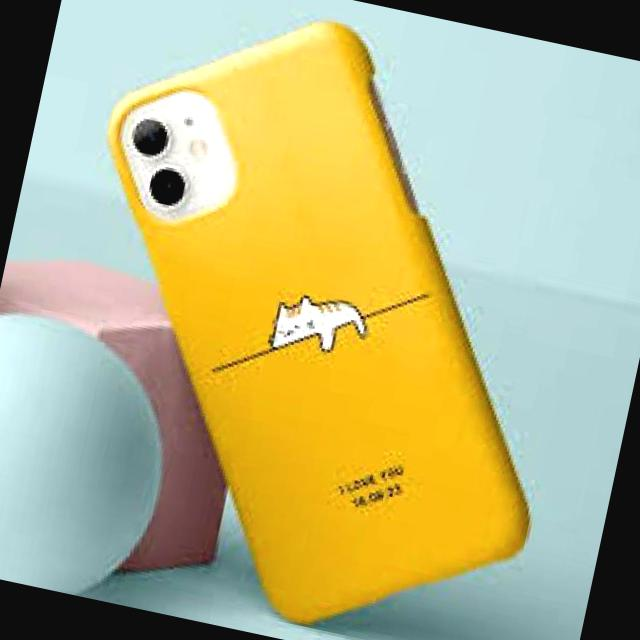lens_back: (138, 166, 196, 228), (130, 114, 184, 164)
